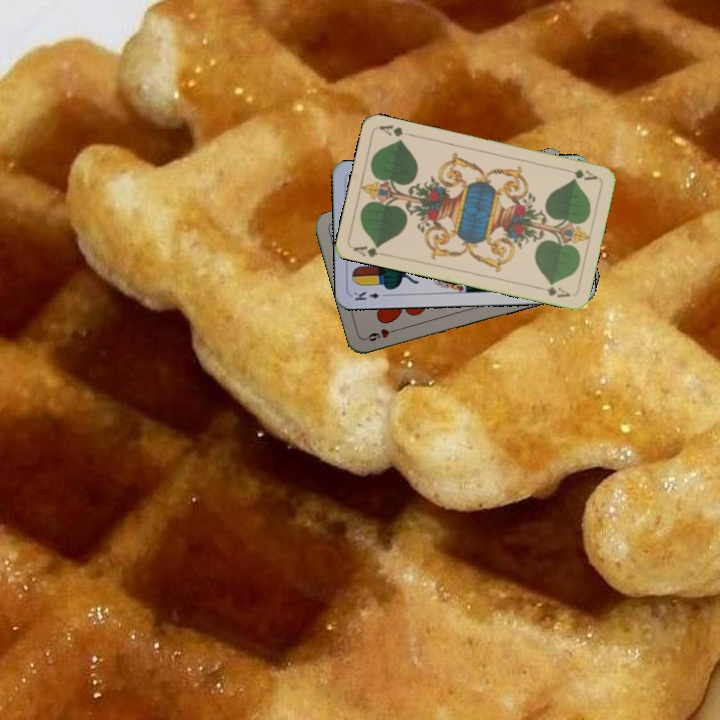EK: (350, 288, 390, 303)
GA: (349, 240, 383, 259), (569, 165, 600, 183)
H9: (362, 324, 402, 344)
